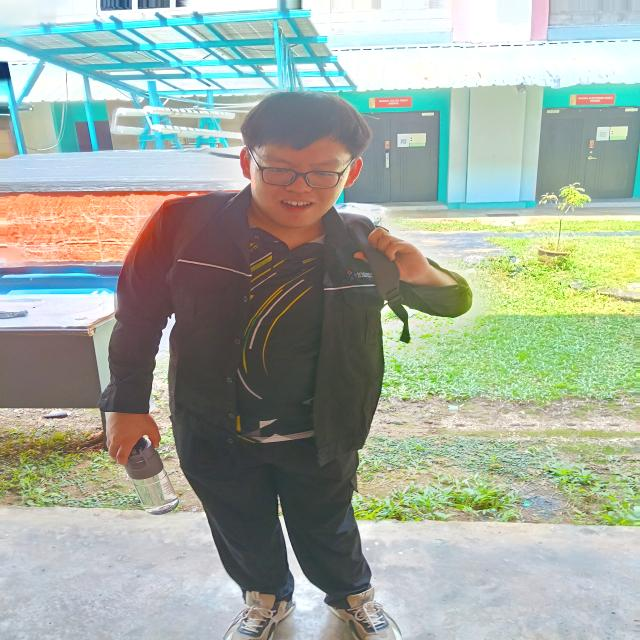person_with_labcoat: (99, 92, 472, 640)
